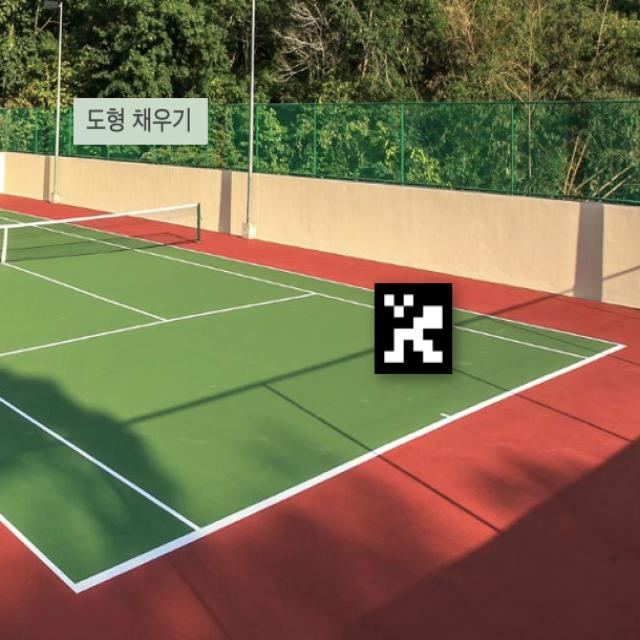marker: (366, 274, 464, 387)
